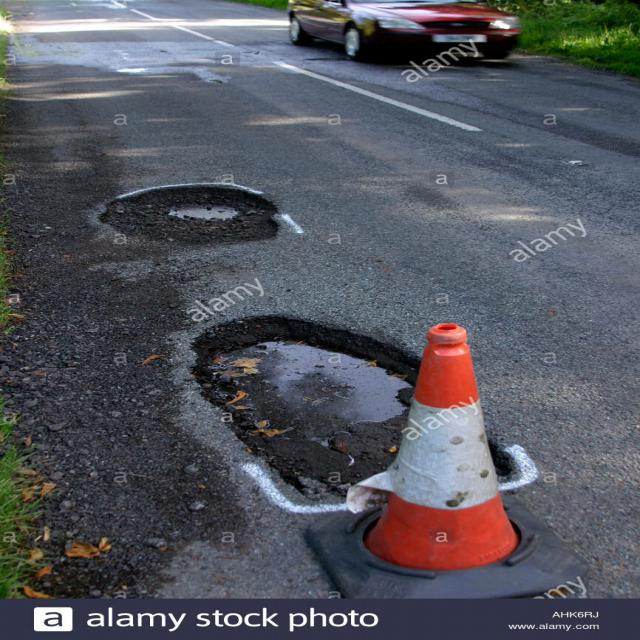Pothole: (52, 157, 637, 544)
